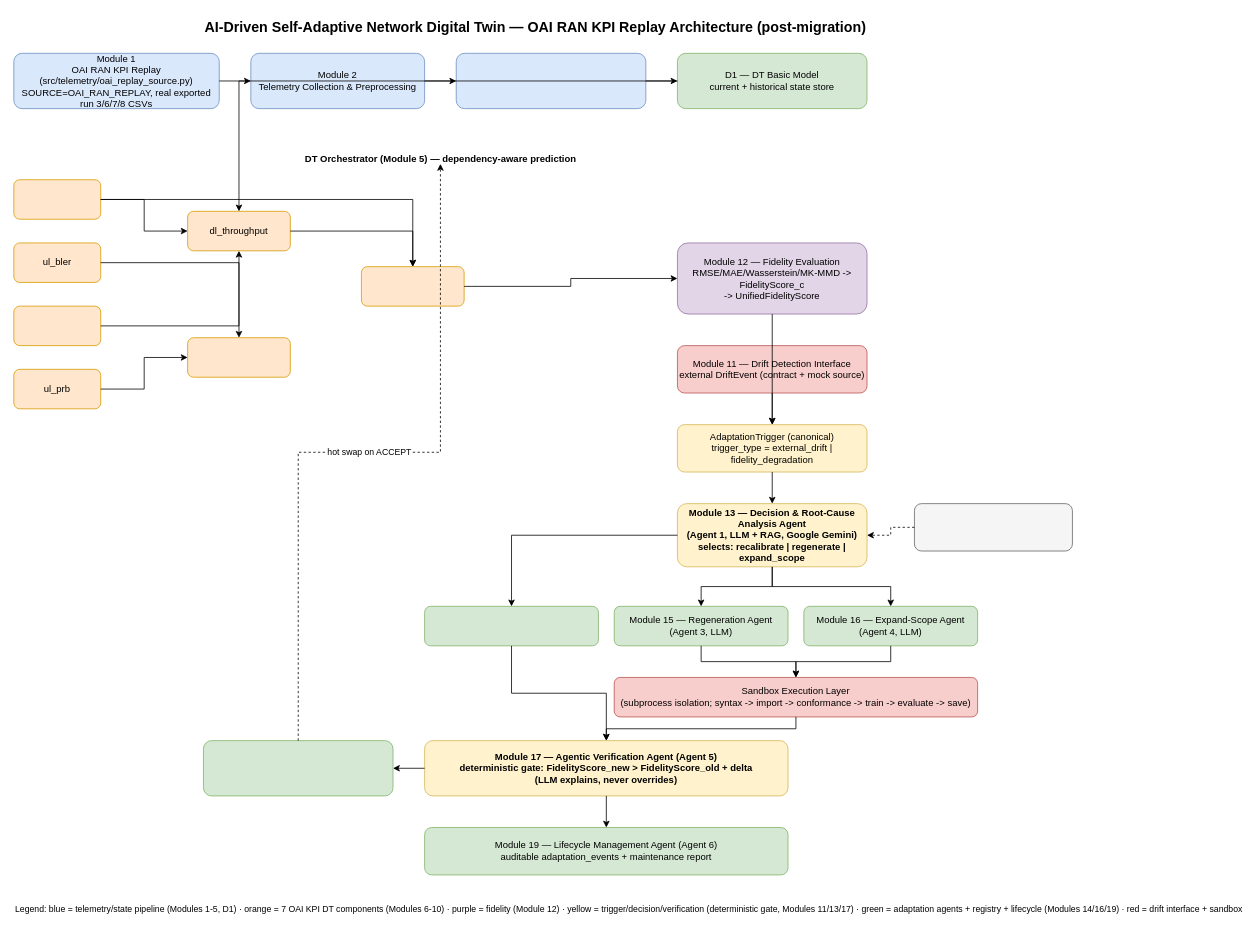
Image size: 1257x943. Some labels were removed from this diagram. The shapes that lost their labels are listed below. From the top down, each one's centre as x and y in pixels, then its label:
At (550,81): "Module 3 Continuous Synchronization (background thread, never blocked)".
At (57,199): "dl_bler".
At (412,286): "dl_rlc_delay".
At (57,325): "dl_prb".
At (238,357): "ul_throughput".
At (993,527): "D2 — RAG Knowledge Base (read-only) O-RAN specs, DT docs, policies, history".
At (511,626): "Module 14 — Recalibration Agent (Agent 2)".
At (298,768): "Versioned Model Registry (Concept C) promote() / reject() / rollback".
